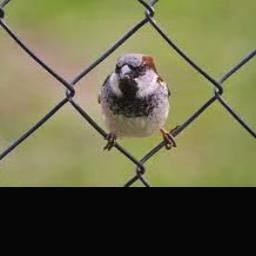Sparrow: (99, 53, 171, 140)
